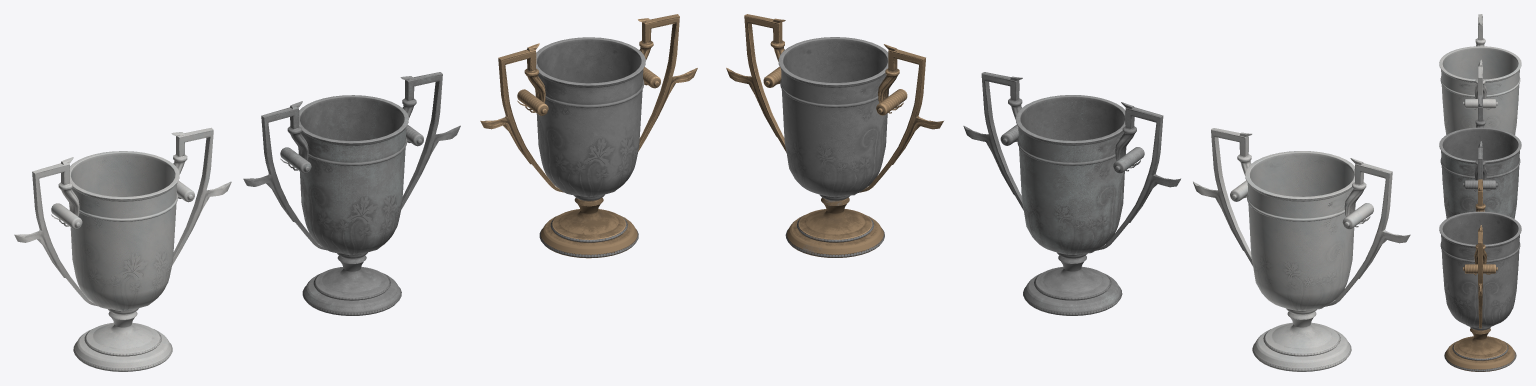
The picture shows the model from 3 angles, left to right: view 1: azimuth 30°, elevation 25°; view 2: azimuth 150°, elevation 25°; view 3: azimuth 270°, elevation 25°; orthographic projection. The views are drawn at different scales.
Parts seen in each view (by area): view 1: Antique Trophy Goblet Opulent_2, Antique Trophy Goblet Worn Silver_0, Antique Trophy Goblet Clean Silver_1; view 2: Antique Trophy Goblet Worn Silver_0, Antique Trophy Goblet Clean Silver_1, Antique Trophy Goblet Opulent_2; view 3: Antique Trophy Goblet Opulent_2, Antique Trophy Goblet Worn Silver_0, Antique Trophy Goblet Clean Silver_1.
Part boxes in pixels (bbox=[...]): Antique Trophy Goblet Opulent_2: bbox=[480, 14, 697, 258]; Antique Trophy Goblet Worn Silver_0: bbox=[243, 72, 460, 315]; Antique Trophy Goblet Clean Silver_1: bbox=[14, 127, 231, 371]; Antique Trophy Goblet Worn Silver_0: bbox=[963, 72, 1180, 315]; Antique Trophy Goblet Clean Silver_1: bbox=[1193, 128, 1410, 371]; Antique Trophy Goblet Opulent_2: bbox=[726, 14, 943, 257]; Antique Trophy Goblet Opulent_2: bbox=[1439, 179, 1521, 371]; Antique Trophy Goblet Worn Silver_0: bbox=[1439, 95, 1521, 218]; Antique Trophy Goblet Clean Silver_1: bbox=[1439, 14, 1521, 134].
Bounding box in the file's own units: 1.08 × 0.3127 × 0.1563.
3 materials, 3 textured.
